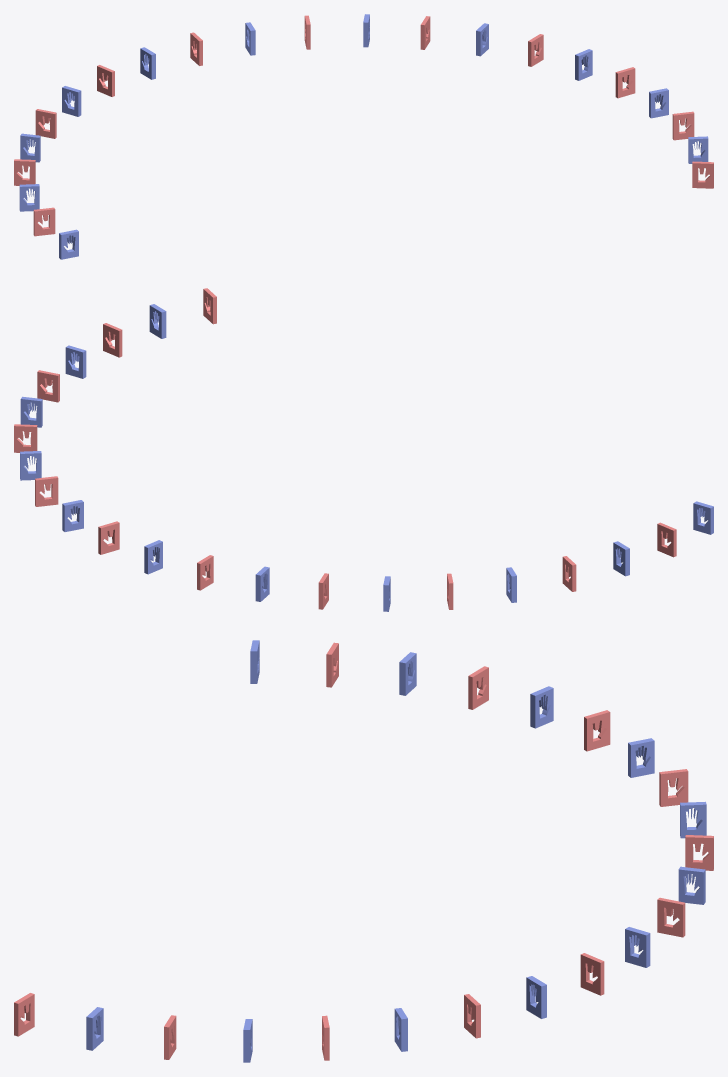
File: all_board_demo.FBX
3 renders of one model, top to bottom at view 1: azimuth 30°, elevation 25°; view 2: azimuth 150°, elevation 25°; view 3: azimuth 270°, elevation 25°, orthographic. The views are drawn at different scales.
Parts seen in each view (by area): view 1: board_1; view 2: board_1; view 3: board_1.
Boxes of the visible parts, x1,y1,x2,y2 form: board_1: (14, 14, 713, 259); board_1: (14, 288, 713, 611); board_1: (14, 640, 713, 1062).
Bounding box in the file's own units: 3379 × 133 × 2563.
